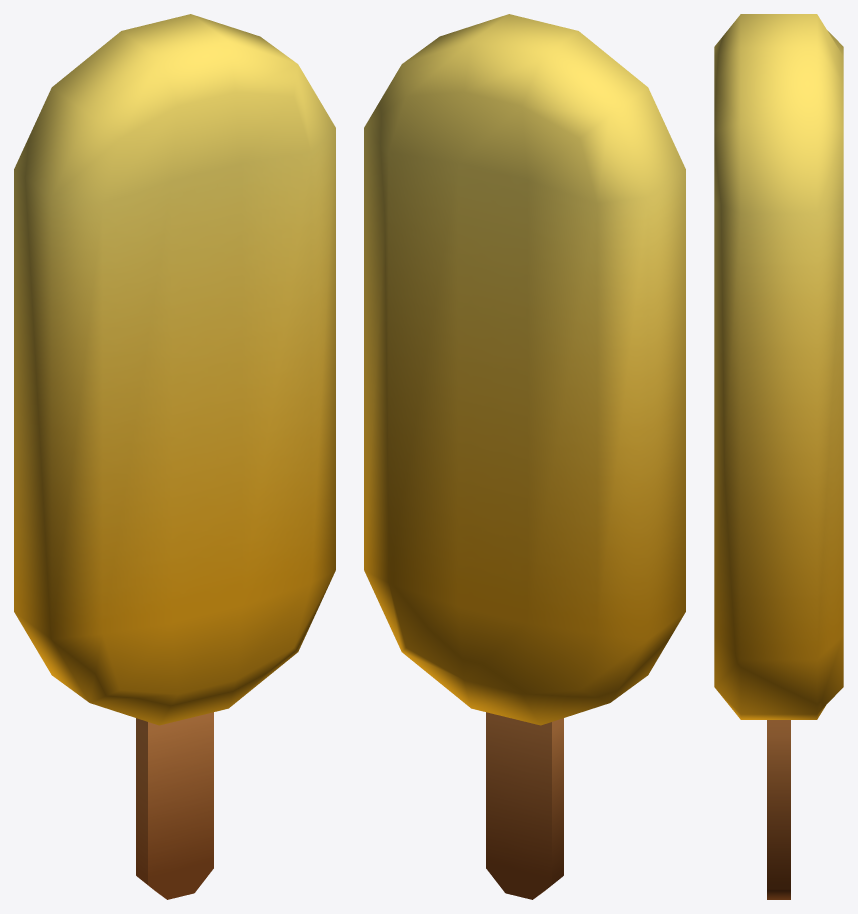
Rendered from m_Popsicle08.fbx.
3 renders of one model, left to right at view 1: azimuth 30°, elevation 25°; view 2: azimuth 150°, elevation 25°; view 3: azimuth 270°, elevation 25°, orthographic.
Parts seen in each view (by area): view 1: m_Popsicle08; view 2: m_Popsicle08; view 3: m_Popsicle08.
Part boxes in pixels (<box>): m_Popsicle08: <box>14,14,335,899</box>; m_Popsicle08: <box>364,14,685,899</box>; m_Popsicle08: <box>714,14,843,899</box>.
Size of the model in its own units: 7.98 by 22.99 by 3.12.
